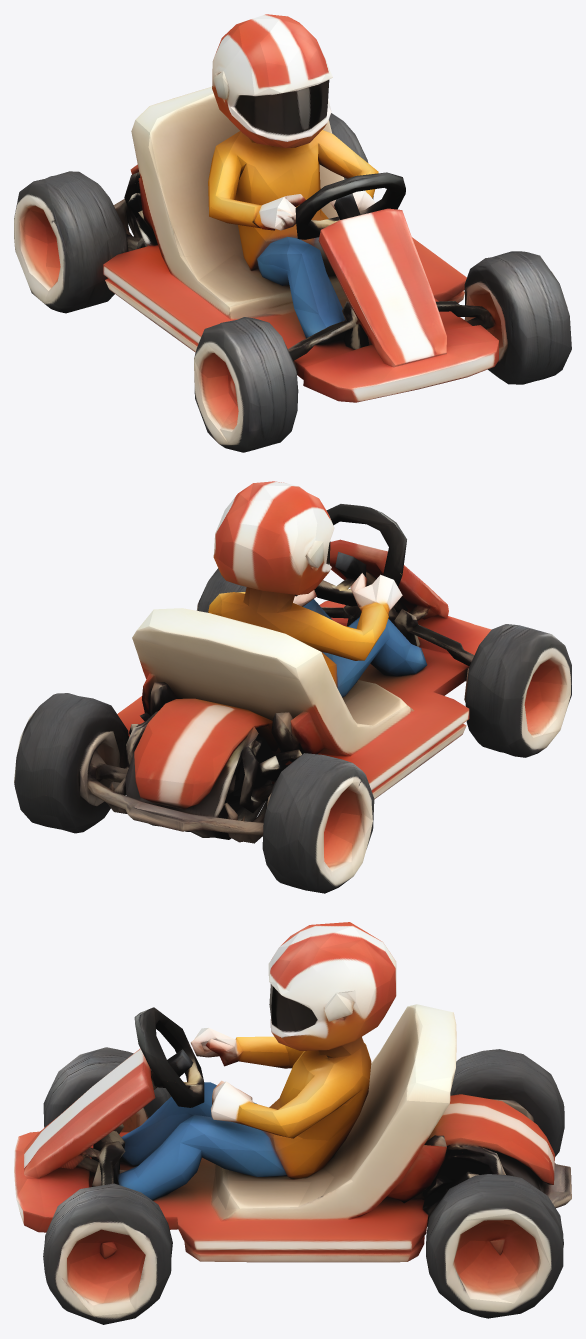
Rendered from kart.glb.
The picture shows the model from 3 angles, top to bottom: view 1: azimuth 30°, elevation 25°; view 2: azimuth 150°, elevation 25°; view 3: azimuth 270°, elevation 25°; orthographic projection. The views are drawn at different scales.
Parts seen in each view (by area): view 1: model; view 2: model; view 3: model.
Part boxes in pixels (<box>): model: <box>14,14,571,452</box>; model: <box>14,481,571,893</box>; model: <box>14,922,571,1324</box>.
Bounding box in the file's own units: 1.34 × 1.2 × 1.9.
1 material, 1 textured.
